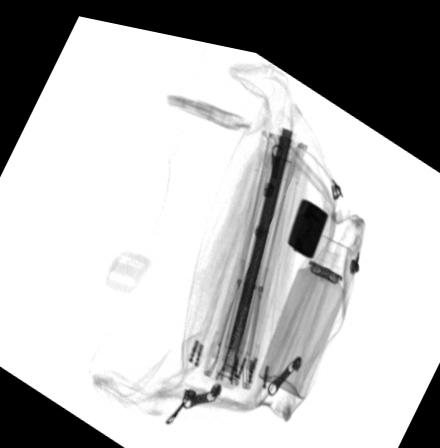Lighter: (288, 186, 330, 246)
Sprayer: (258, 217, 354, 387)
